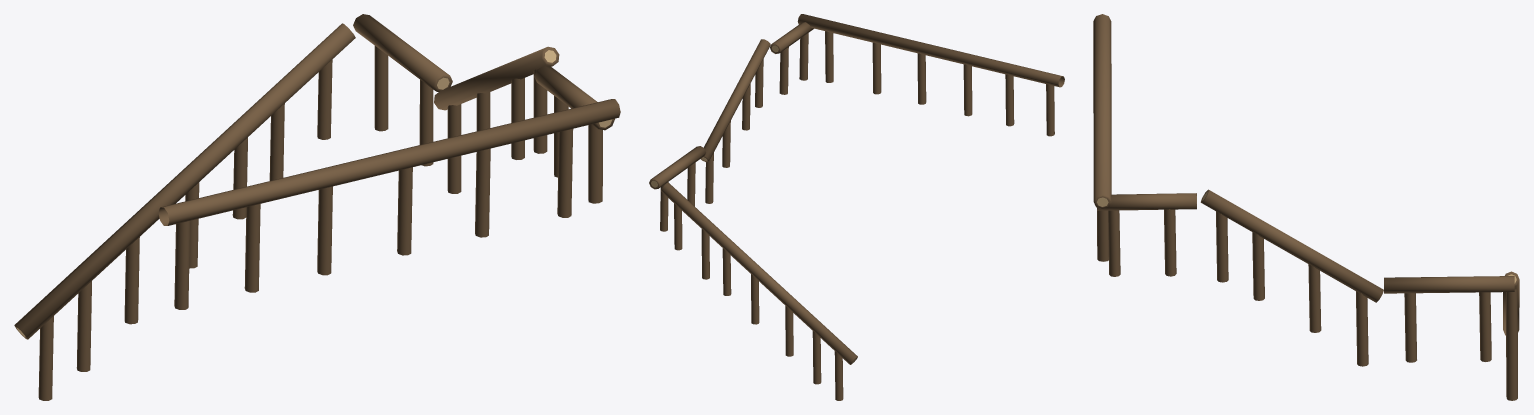
The model's file is rpgpp_ag_stairs_interior_01b_3m_handrail_01.fbx.
The picture shows the model from 3 angles, left to right: view 1: azimuth 30°, elevation 25°; view 2: azimuth 150°, elevation 25°; view 3: azimuth 270°, elevation 25°; orthographic projection. The views are drawn at different scales.
Visible parts, largest first — view 1: rpgpp_ag_stairs_interior_01b_3m_handrail_01; view 2: rpgpp_ag_stairs_interior_01b_3m_handrail_01; view 3: rpgpp_ag_stairs_interior_01b_3m_handrail_01.
Boxes of the visible parts, bbox=[...] form: rpgpp_ag_stairs_interior_01b_3m_handrail_01: bbox=[14, 14, 620, 400]; rpgpp_ag_stairs_interior_01b_3m_handrail_01: bbox=[649, 14, 1064, 400]; rpgpp_ag_stairs_interior_01b_3m_handrail_01: bbox=[1093, 14, 1519, 400].
Size of the model in its own units: 4.32 by 3.66 by 4.24.
